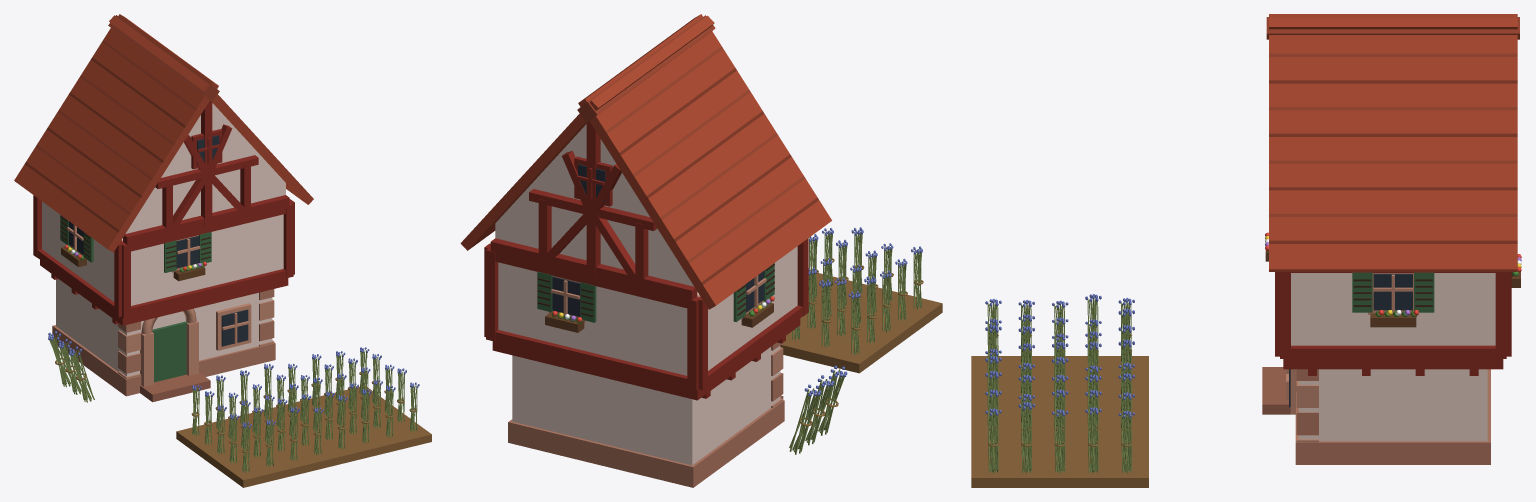
The model's file is flachsbauer.glb.
The picture shows the model from 3 angles, left to right: view 1: azimuth 30°, elevation 25°; view 2: azimuth 150°, elevation 25°; view 3: azimuth 270°, elevation 25°; orthographic projection. The views are drawn at different scales.
Size of the model in its own units: 3.27 by 4 by 4.96.
